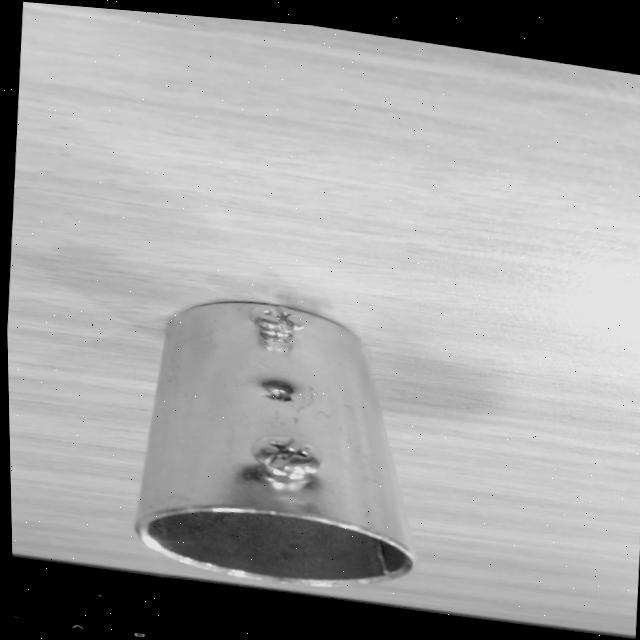Co_Nho: (130, 290, 442, 595)
